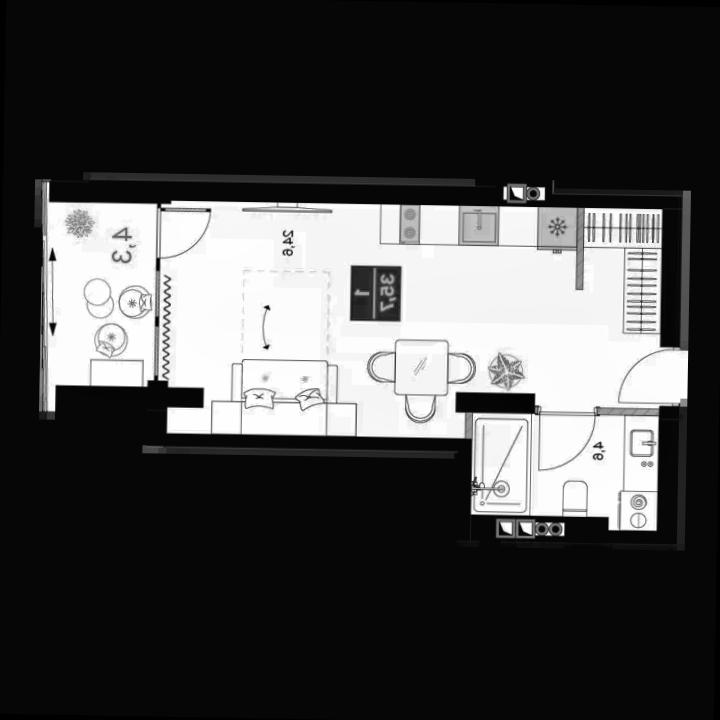door: (614, 341, 684, 410), (534, 404, 600, 472), (151, 206, 213, 262)
window: (150, 266, 164, 318), (150, 323, 162, 378)
